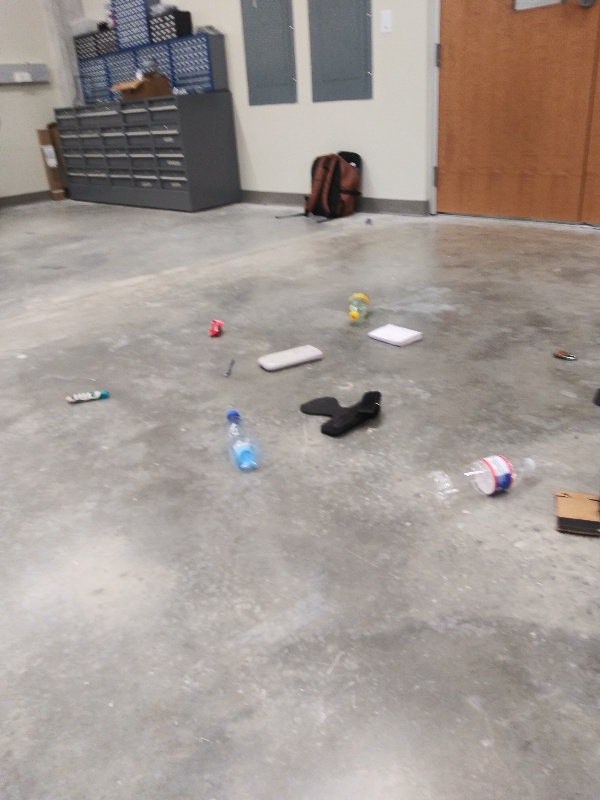bottle: (428, 452, 540, 511), (219, 409, 263, 477), (342, 282, 374, 330)
